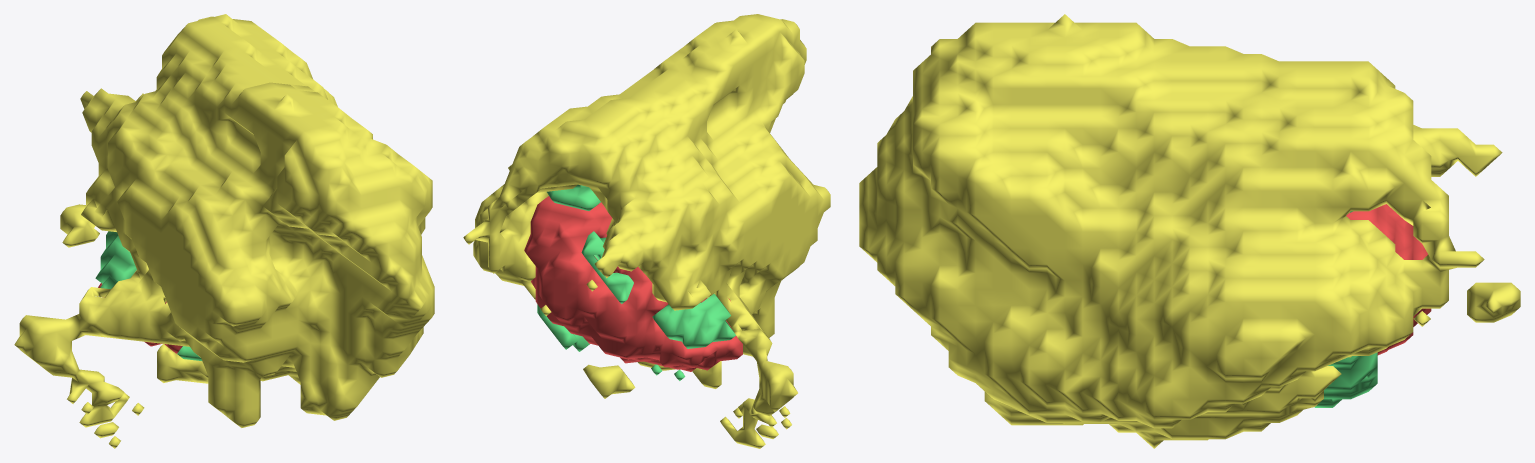
The model's file is tumor_mesh.glb.
The picture shows the model from 3 angles, left to right: view 1: azimuth 30°, elevation 25°; view 2: azimuth 150°, elevation 25°; view 3: azimuth 270°, elevation 25°; orthographic projection. The views are drawn at different scales.
Visible parts, largest first — view 1: edema, enhancing; view 2: edema, necrotic, enhancing; view 3: edema, necrotic, enhancing.
Boxes of the visible parts, box(x1,y1,x2,y2) form: edema: box(14, 14, 434, 448); enhancing: box(95, 231, 202, 360); edema: box(463, 14, 830, 448); necrotic: box(524, 196, 742, 371); enhancing: box(537, 184, 735, 380); edema: box(859, 14, 1520, 448); necrotic: box(1346, 204, 1431, 355); enhancing: box(1314, 211, 1377, 407).
Bounding box in the file's own units: 28 × 28 × 37.
